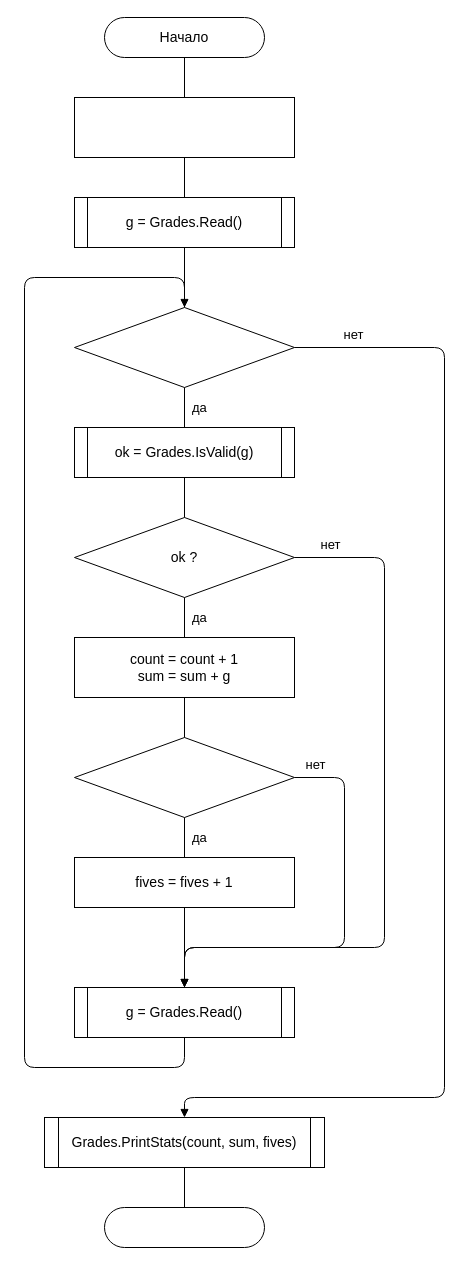
The diagram is 470 pixels wide and 1265 high, and some of its shapes have lost their labels. Each missing label, with the box of its shape:
count = 0 sum = 0 fives = 0: (74, 96, 294, 158)
g = Max ?: (74, 736, 294, 818)
g ≠ Stop ?: (74, 306, 294, 388)
Конец: (104, 1206, 264, 1248)
